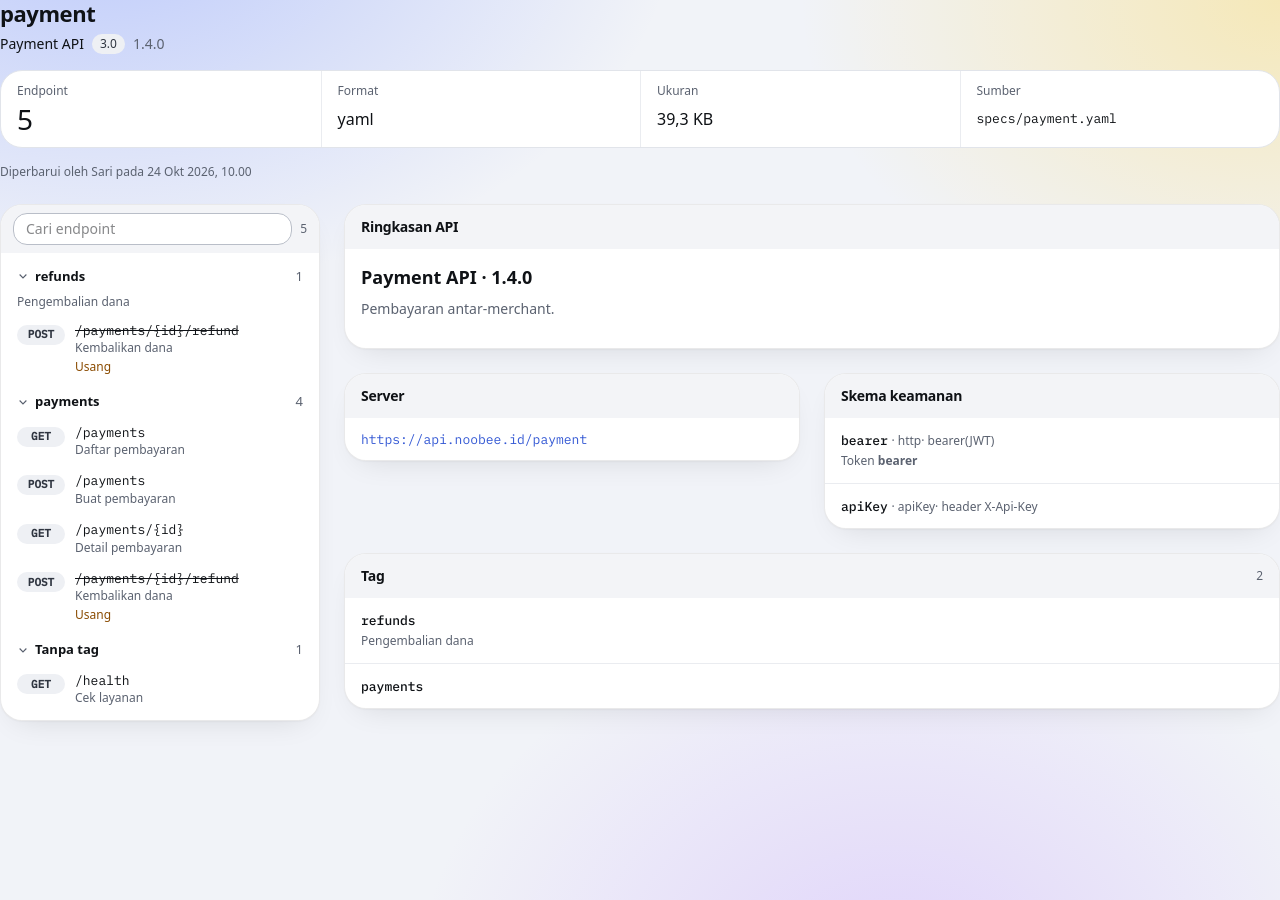
Test: SpecDetailView › search filters the sidebar and shows an empty message
Type "zzz" into the search field at coordinates (153, 228), box [13,212,292,244]
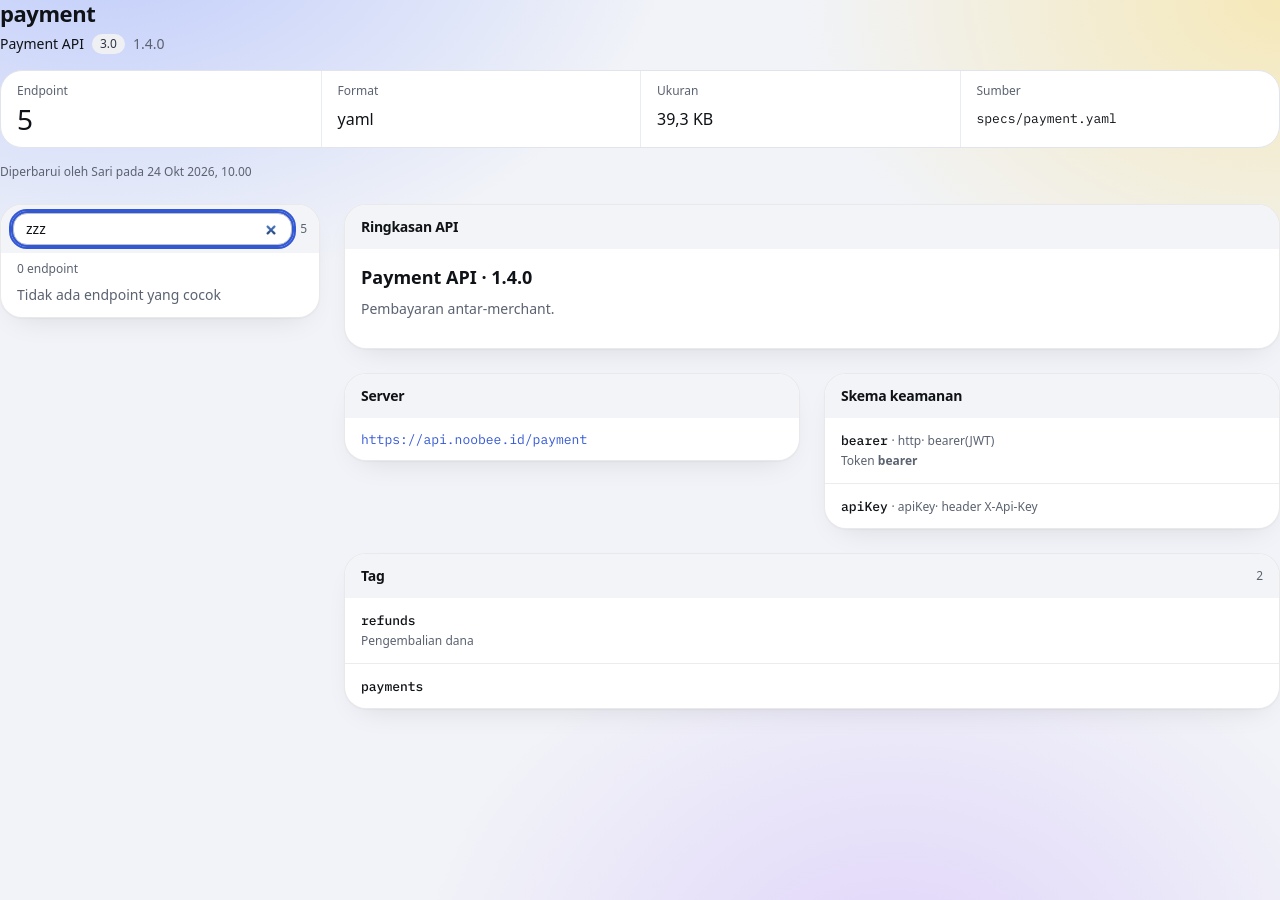
Expected: the text "Tidak ada endpoint yang cocok" is shown, [17,284,221,304]
